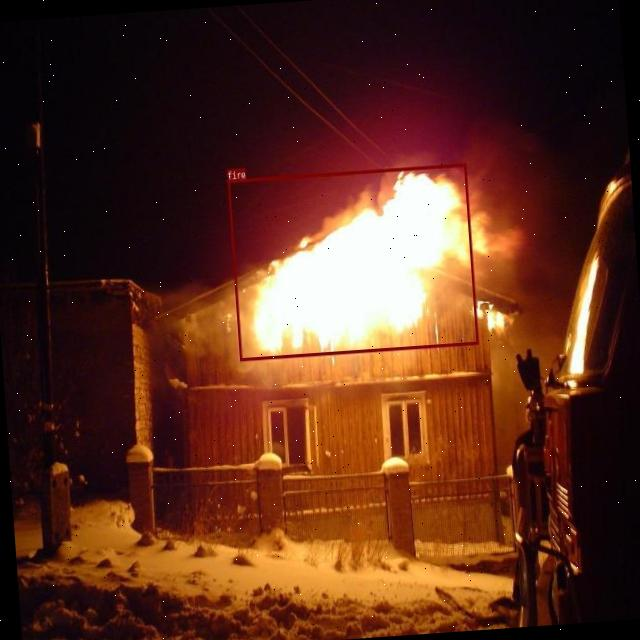fire: (227, 162, 478, 360)
